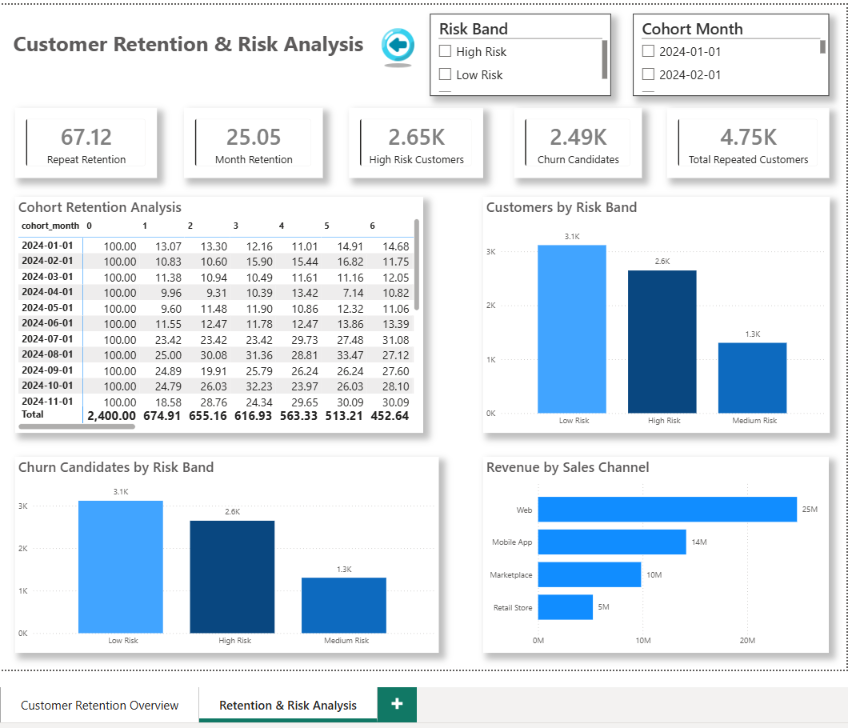

What the dashboard file says about the page in this screenshot:
{"tool":"powerbi","page":{"name":"Retention & Risk Analysis","canvas":[1301,1023],"ordinal":1},"visuals":[{"type":"textbox","box":[15.4,0,558.5,123.1],"z":0},{"type":"cardVisual","fields":{"Data":["Sum(vw_pbi_kpi_summary.period_repeat_retention_rate)"]},"box":[23.1,158.5,218.5,107.7],"z":1000},{"type":"cardVisual","fields":{"Data":["Avg(vw_pbi_kpi_summary.weighted_month_1_retention_rate)"]},"box":[283.1,158.5,213.8,107.7],"z":2000},{"type":"cardVisual","fields":{"Data":["Sum(vw_pbi_kpi_summary.churn_candidates)"]},"box":[790.8,158.5,196.9,107.7],"z":3000},{"type":"cardVisual","fields":{"Data":["Sum(vw_pbi_kpi_summary.high_risk_customers)"]},"box":[536.9,158.5,206.2,107.7],"z":4000},{"type":"pivotTable","title":"Cohort Retention Analysis","fields":{"Rows":["vw_pbi_cohort_retention.cohort_month"],"Columns":["vw_pbi_cohort_retention.elapsed_month"],"Values":["Sum(vw_pbi_cohort_retention.retention_rate)"]},"box":[23.1,295.4,627.7,363.1],"z":5000},{"type":"clusteredColumnChart","title":"Customers by Risk Band","fields":{"Category":["vw_pbi_customer_risk.risk_band"],"Y":["CountNonNull(vw_pbi_customer_risk.customer_id)"]},"box":[743.1,295.4,533.8,363.1],"z":6000},{"type":"clusteredColumnChart","title":"Churn Candidates by Risk Band","fields":{"Category":["vw_pbi_customer_risk.risk_band"],"Y":["Count(vw_pbi_customer_risk.customer_id)"]},"box":[23.1,695.4,652.3,301.5],"z":7000},{"type":"clusteredBarChart","title":"Revenue by Sales Channel","fields":{"Category":["vw_pbi_channel_performance.sales_channel_name"],"Y":["Sum(vw_pbi_channel_performance.line_revenue)"]},"box":[743.1,695.4,532.3,301.5],"z":8000},{"type":"cardVisual","fields":{"Data":["Sum(vw_pbi_kpi_summary.repeat_customers)"]},"box":[1026.2,158.5,249.2,107.7],"z":9000},{"type":"slicer","fields":{"Values":["vw_pbi_customer_risk.risk_band"]},"box":[661.5,13.8,278.5,126.2],"z":9001},{"type":"slicer","fields":{"Values":["vw_pbi_cohort_retention.cohort_month"]},"box":[973.8,13.8,301.5,126.2],"z":9002},{"type":"image","box":[573.8,26.2,76.9,70.8],"z":9003}]}

Visuals, with their boxes on the page's 1301x1023 design canvas (x1, y1, x2, y2). These are canvas units, not pixel positions in the 848x728 screenshot, which may show the page scaled, cropped or inside an application window:
textbox: [left=15, top=0, right=574, bottom=123]
cardVisual - Sum(vw_pbi_kpi_summary.period_repeat_retention_rate): [left=23, top=158, right=242, bottom=266]
cardVisual - Avg(vw_pbi_kpi_summary.weighted_month_1_retention_rate): [left=283, top=158, right=497, bottom=266]
cardVisual - Sum(vw_pbi_kpi_summary.churn_candidates): [left=791, top=158, right=988, bottom=266]
cardVisual - Sum(vw_pbi_kpi_summary.high_risk_customers): [left=537, top=158, right=743, bottom=266]
"Cohort Retention Analysis" pivotTable: [left=23, top=295, right=651, bottom=658]
"Customers by Risk Band" clusteredColumnChart: [left=743, top=295, right=1277, bottom=658]
"Churn Candidates by Risk Band" clusteredColumnChart: [left=23, top=695, right=675, bottom=997]
"Revenue by Sales Channel" clusteredBarChart: [left=743, top=695, right=1275, bottom=997]
cardVisual - Sum(vw_pbi_kpi_summary.repeat_customers): [left=1026, top=158, right=1275, bottom=266]
slicer - vw_pbi_customer_risk.risk_band: [left=662, top=14, right=940, bottom=140]
slicer - vw_pbi_cohort_retention.cohort_month: [left=974, top=14, right=1275, bottom=140]
image: [left=574, top=26, right=651, bottom=97]
